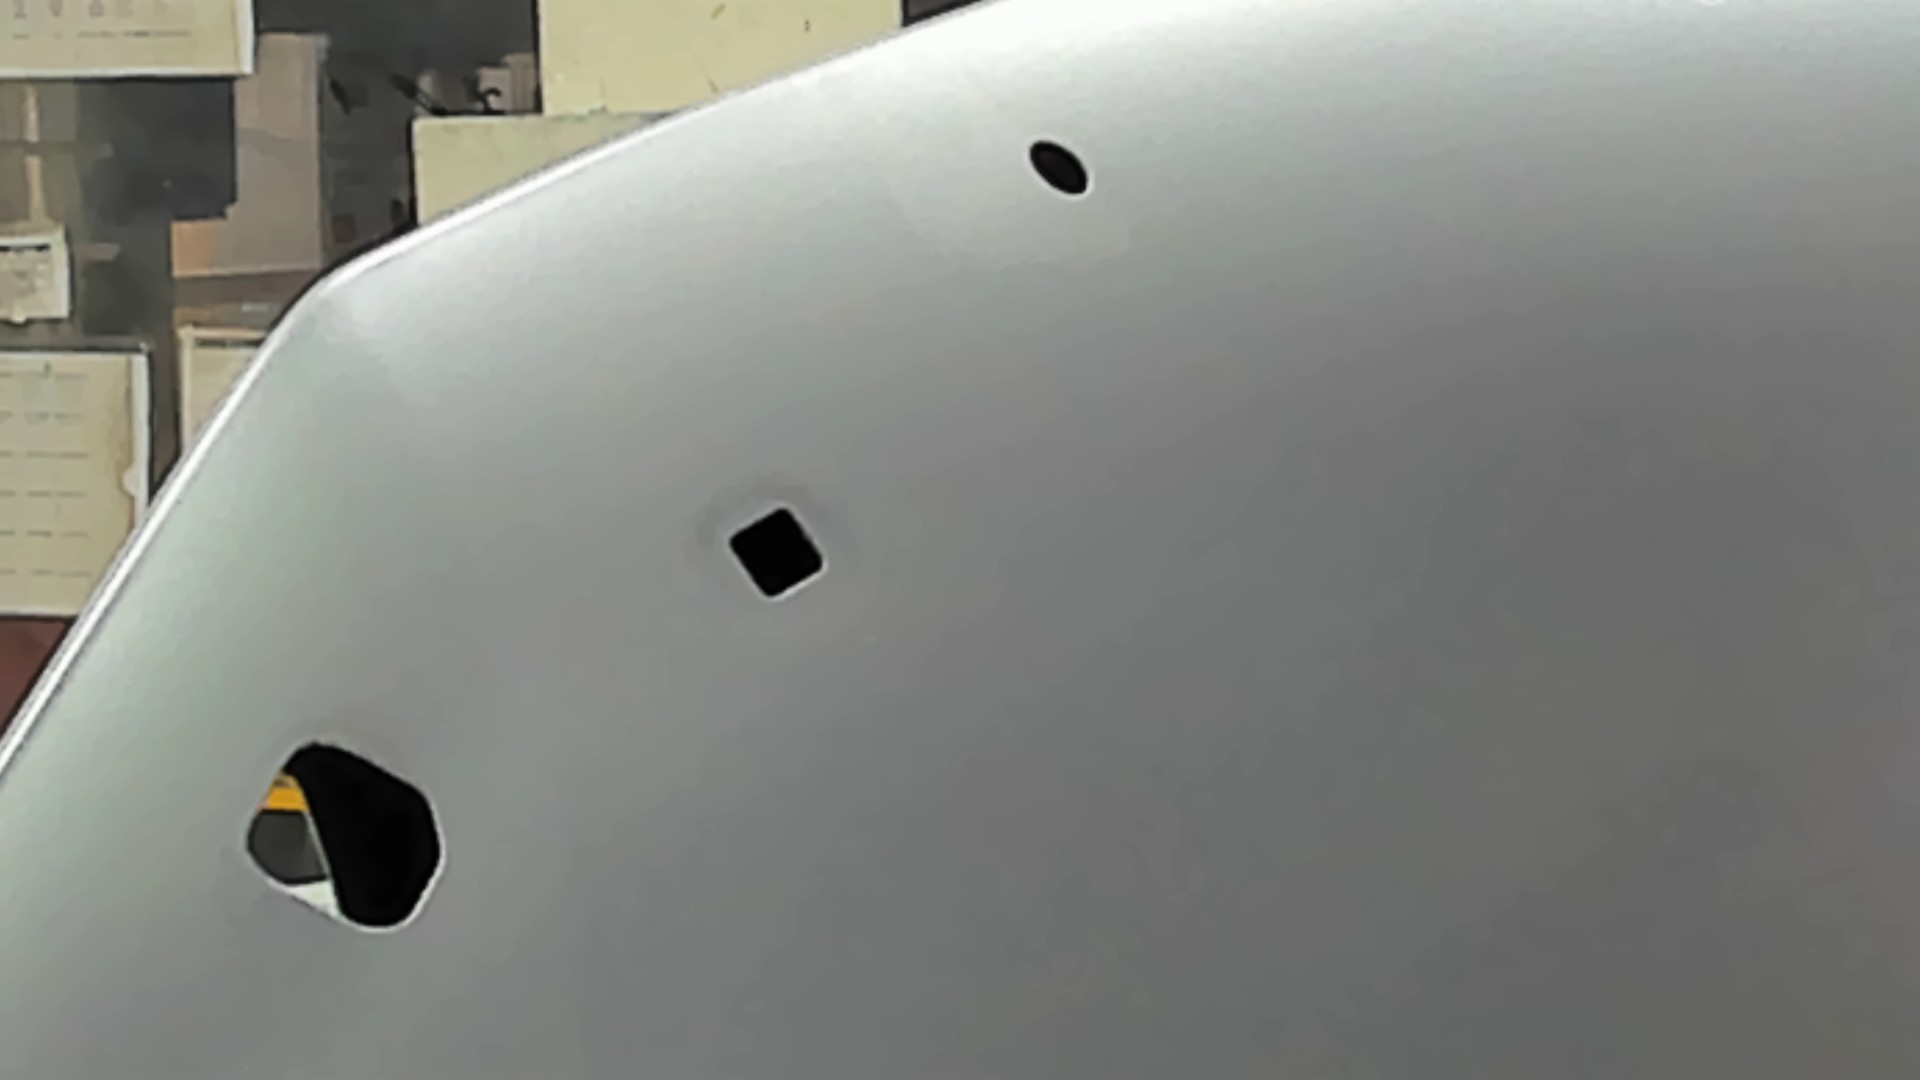chico: (1021, 133, 1096, 200)
grande: (240, 738, 450, 939)
mediano: (720, 496, 833, 608)
